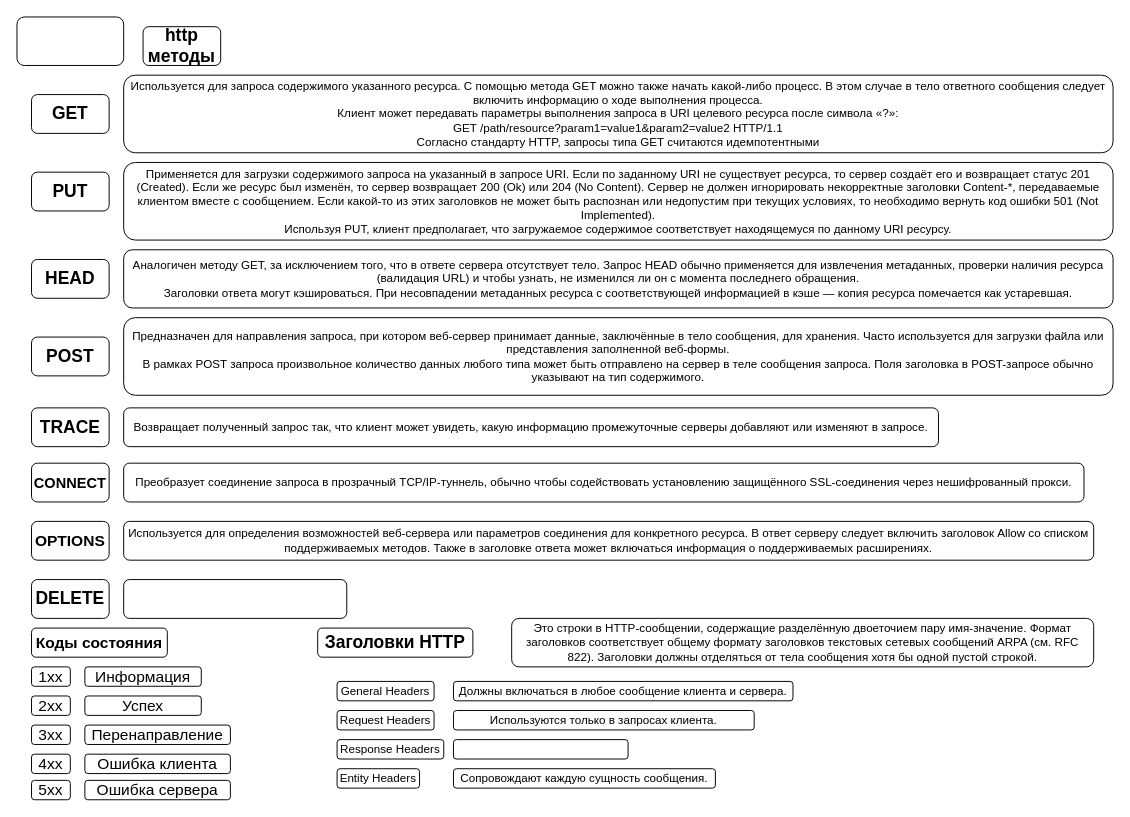
Image size: 1130x817. Some labels were removed from this diagram. The shapes that lost their labels are listed below. From the top down, each one's centre as x and y in pixels, then its label:
At [70,40]: "Networks".
At [235,598]: "Удаляет указанный ресурс.".
At [540,749]: "Только для ответов от сервера.".
